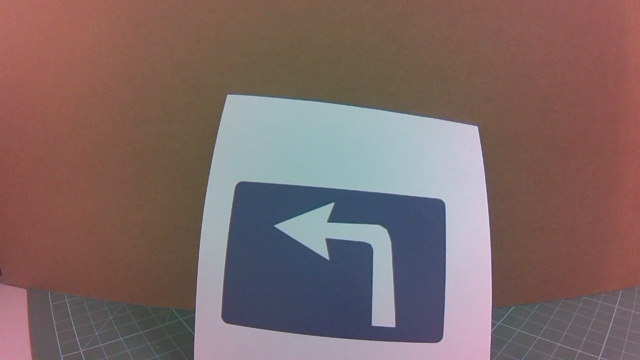left: (232, 179, 424, 347)
